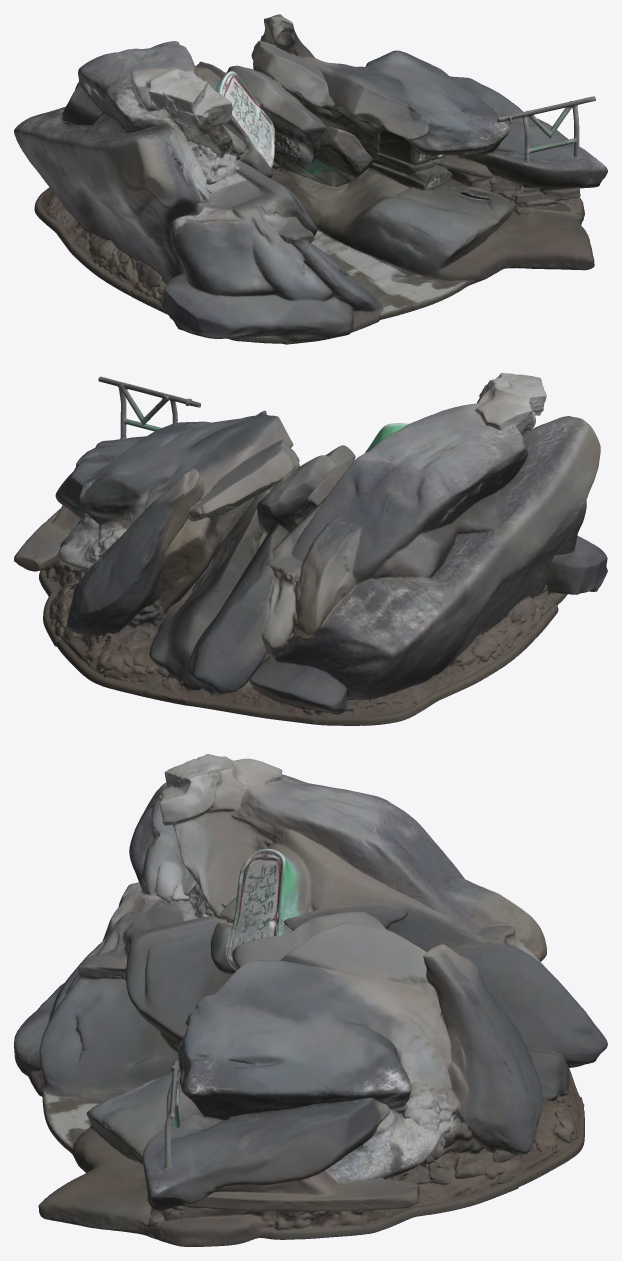
3 views of the same model, one above another, from view 1: azimuth 30°, elevation 25°; view 2: azimuth 150°, elevation 25°; view 3: azimuth 270°, elevation 25° (orthographic). The views are drawn at different scales.
Parts seen in each view (by area): view 1: mesh_0; view 2: mesh_0; view 3: mesh_0.
Boxes of the visible parts, left/top/right/bottom form: mesh_0: left=14, top=14, right=607, bottom=344; mesh_0: left=14, top=373, right=607, bottom=725; mesh_0: left=14, top=754, right=607, bottom=1246.
Bounding box in the file's own units: 1.9 × 0.8642 × 1.79.
Materials: 1 (1 with a texture image).
